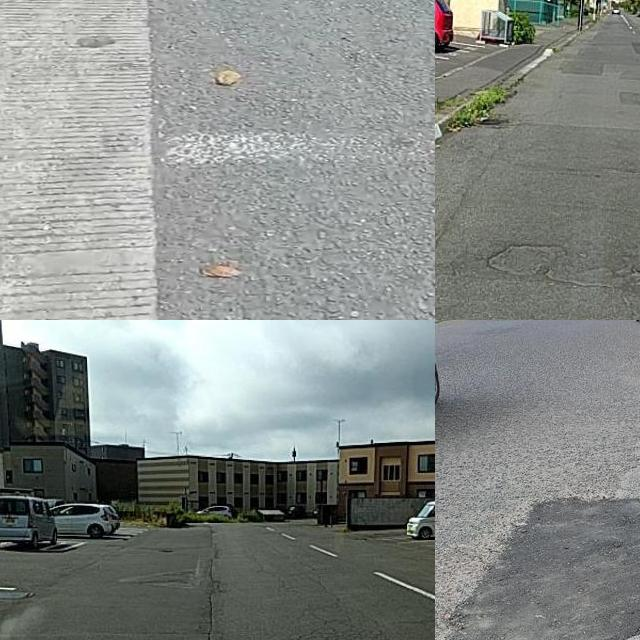Sambungan: (0, 0, 158, 320), (445, 505, 640, 640)
